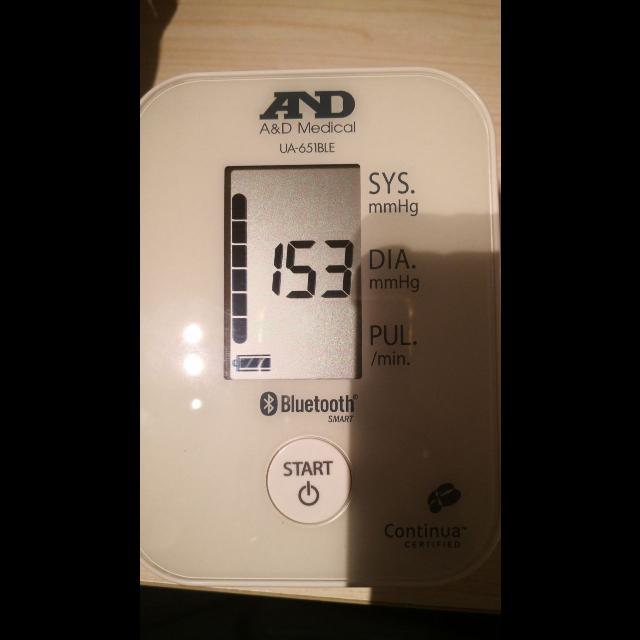Blood-Pressure-Monitor: (140, 69, 500, 587)
